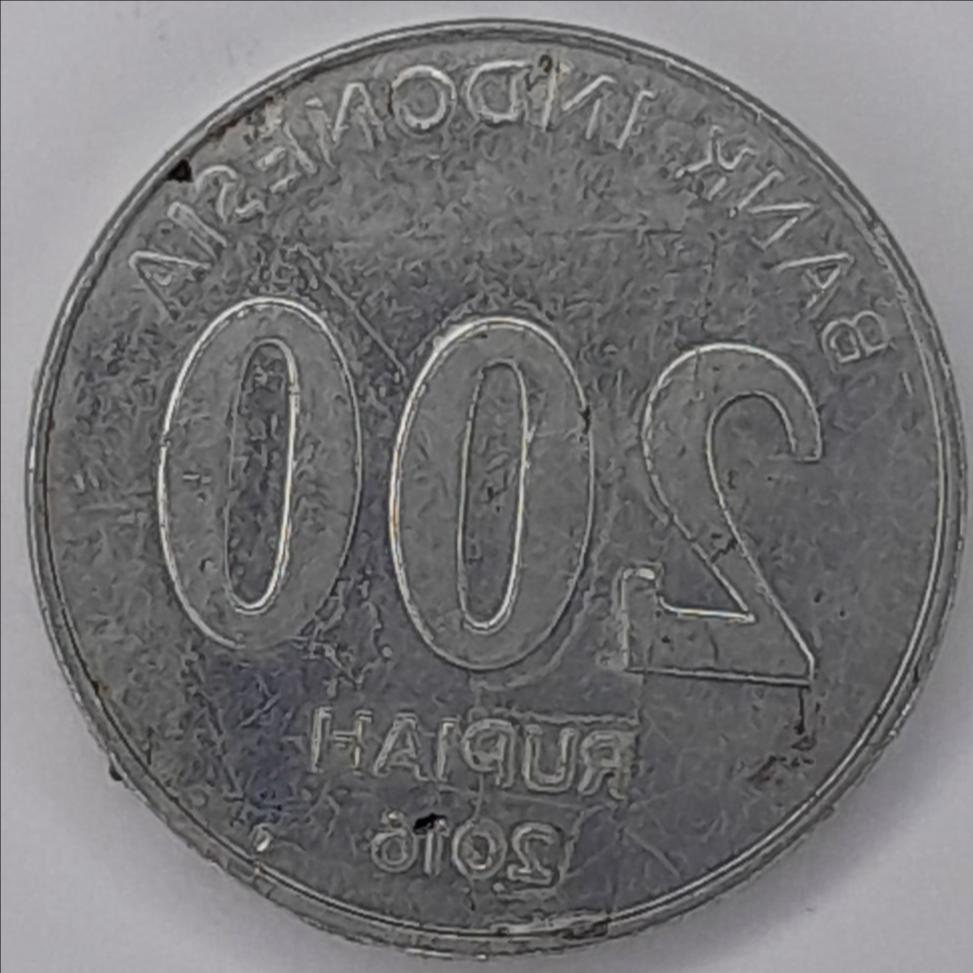coin_200_e2016: (0, 17, 973, 973)
